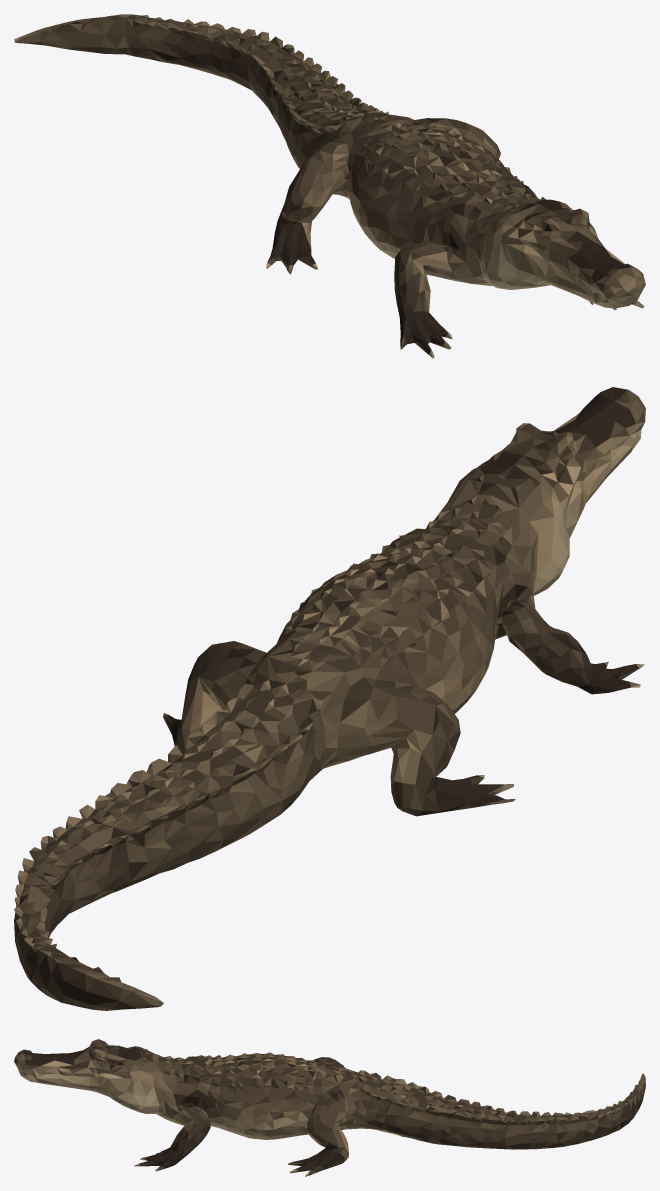
The model's file is crocodylus_niloticus.glb.
3 renders of one model, top to bottom at view 1: azimuth 30°, elevation 25°; view 2: azimuth 150°, elevation 25°; view 3: azimuth 270°, elevation 25°, orthographic. The views are drawn at different scales.
Visible parts, largest first — view 1: lod0; view 2: lod0; view 3: lod0.
Boxes of the visible parts, x1,y1,x2,y2 form: lod0: (14,14,645,358); lod0: (14,387,645,1010); lod0: (14,1039,645,1176).
Size of what is drawn, in the model's own units: 0.7932 by 0.3855 by 2.46.
